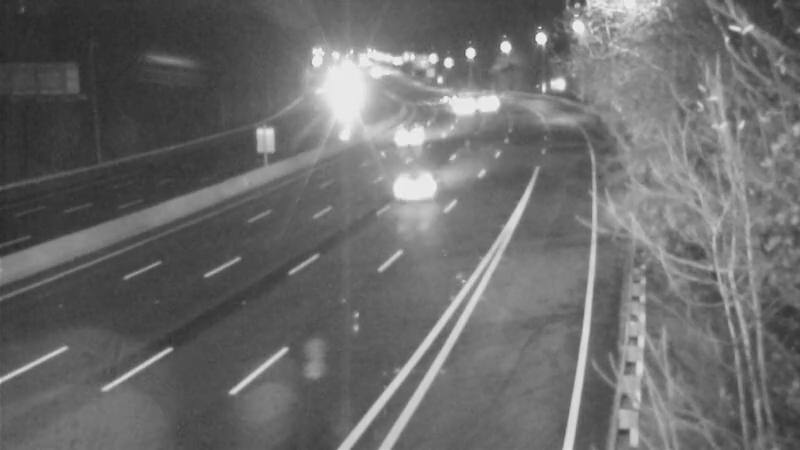vehicle: (375, 150, 455, 230), (418, 74, 468, 124), (465, 79, 515, 129), (436, 83, 486, 133), (382, 109, 432, 159)
